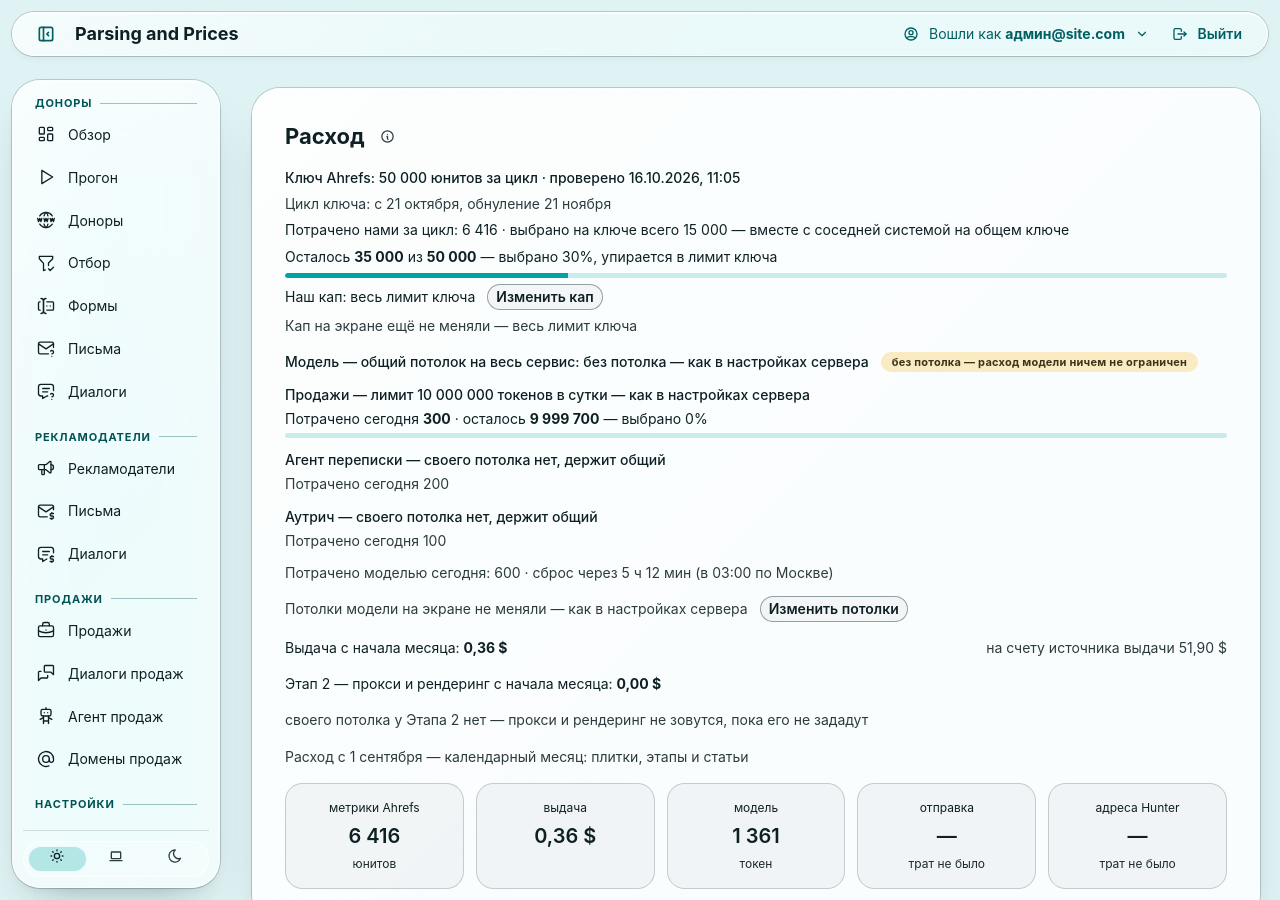
Test case: потолки модели на «Расходе» › окно — с предложенных значений; «добавить из остатка» — шагом, и уходит весь блок
Check: the text "Наш кап: весь лимит ключа" is shown, box 285,287 -> 475,307
Click the button "Изменить потолки": {"x": 834, "y": 609} 760,596 -> 908,622
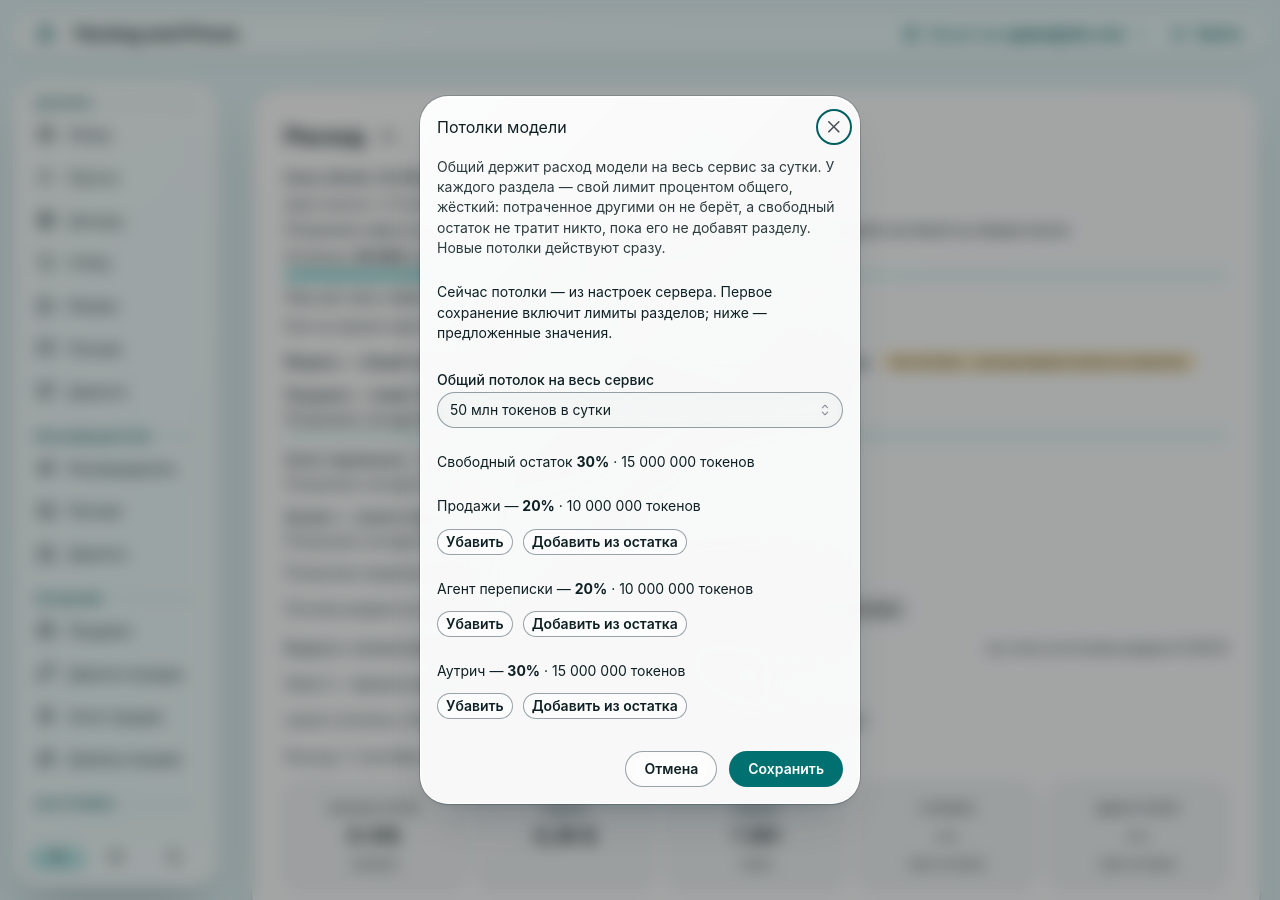
Check: the text "Сейчас потолки — из настроек сервера" is shown, box 437,283 -> 772,341
Click the button with aria-label "Добавить разделу «Продажи» из остатка": {"x": 605, "y": 542} 523,529 -> 687,555
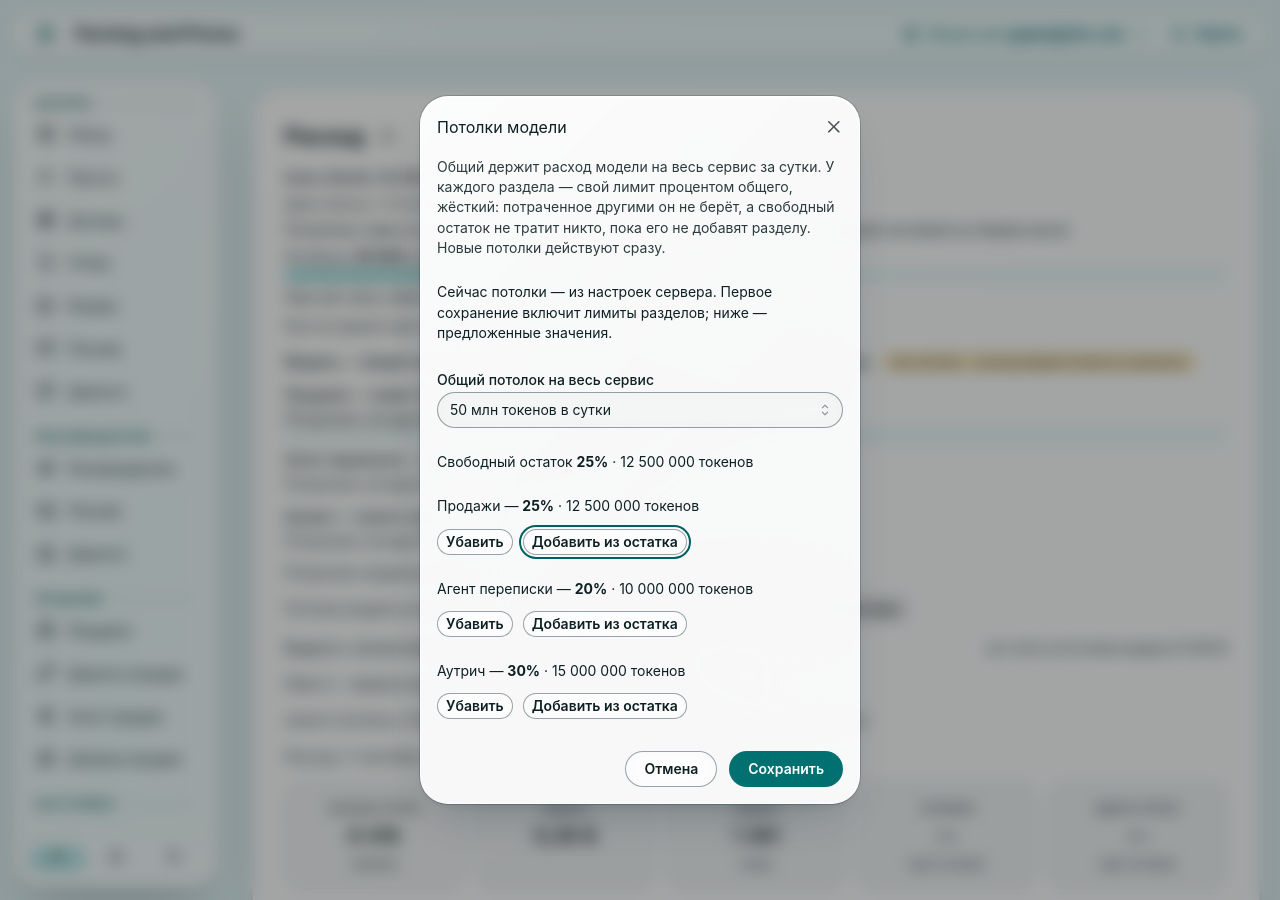
Check: the text "Свободный остаток 25% · 12 500 000 токенов" is shown, box 437,453 -> 753,470
Click the button "Сохранить": {"x": 786, "y": 769} 729,751 -> 843,787
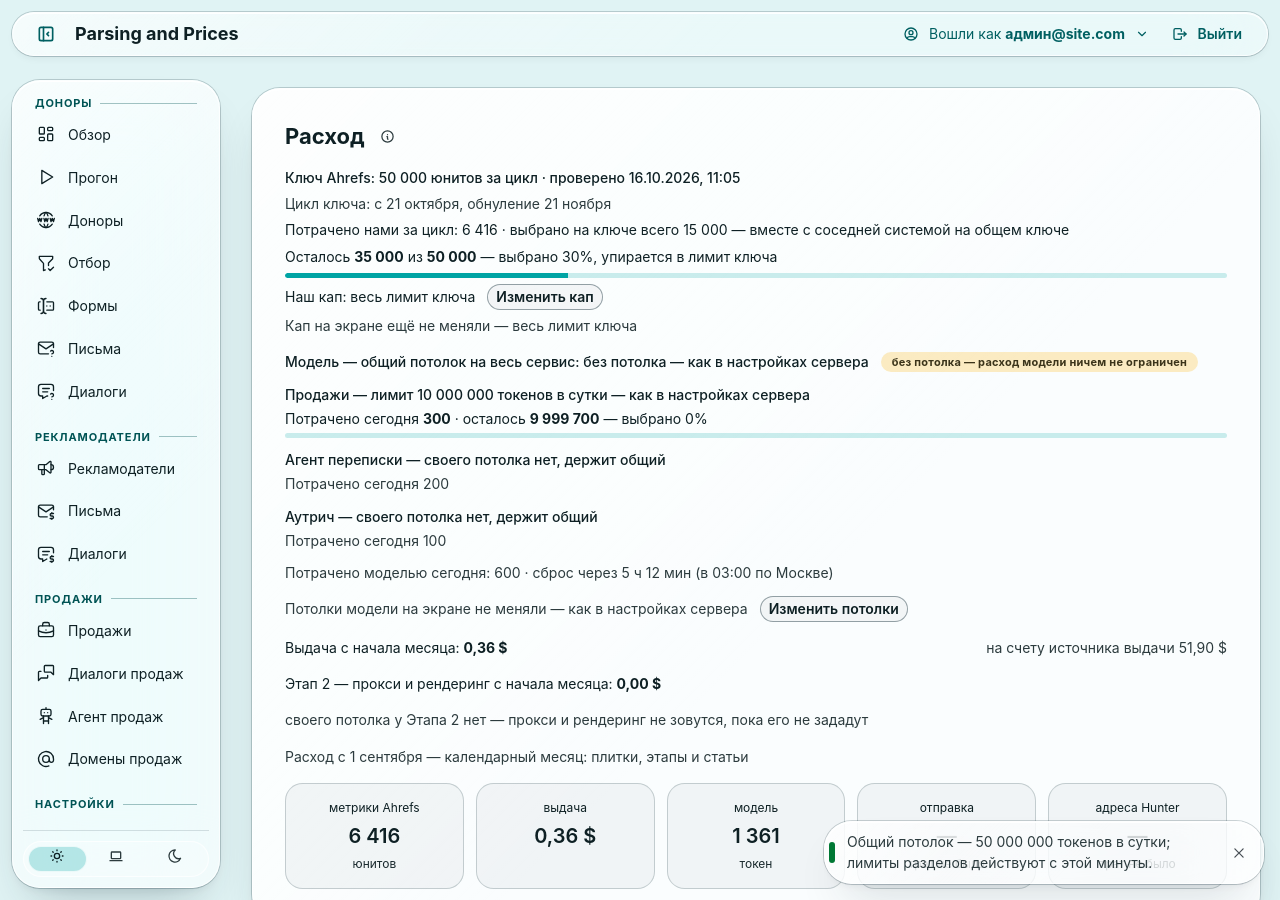
Check: the dialog is gone
